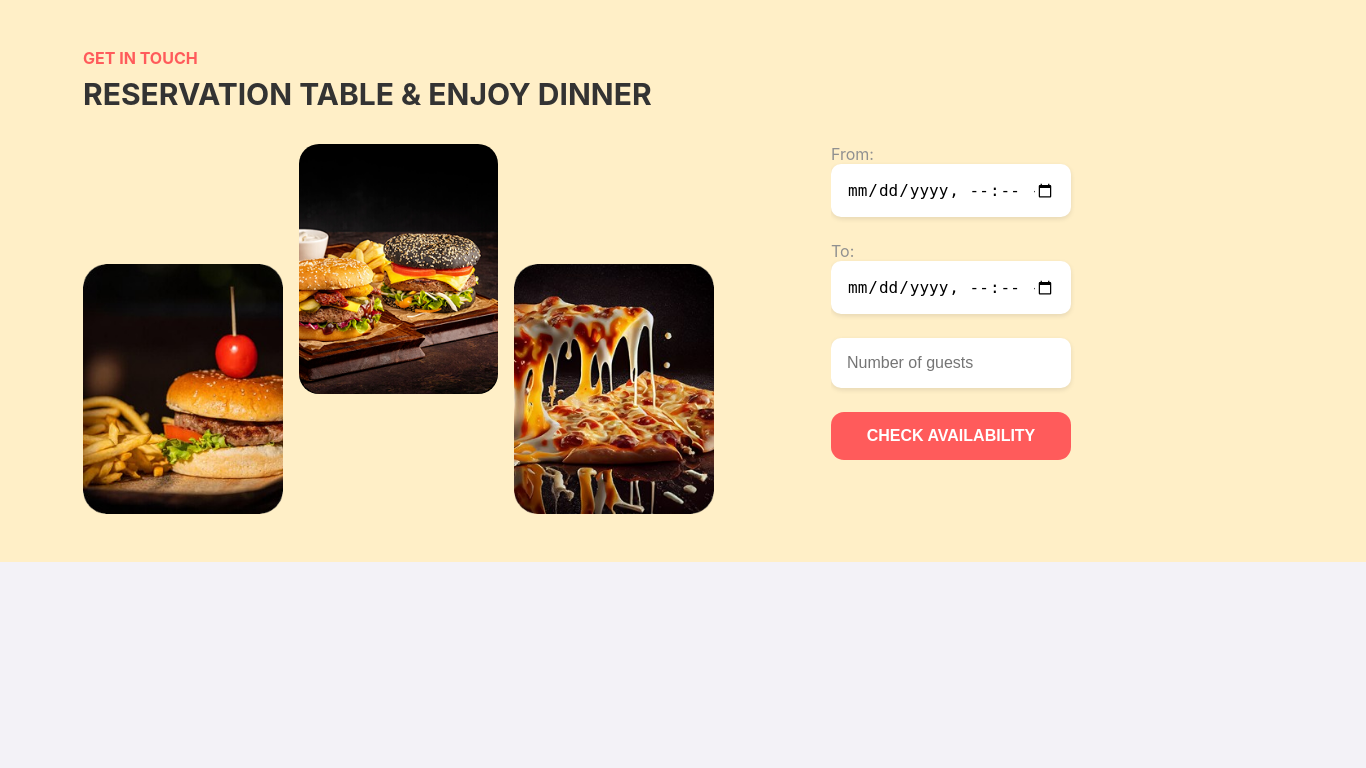
it: ReservationSection - Step 1: Check Availability › Chuyển sang Step 2 nếu có bàn trống
This screenshot has width=1366, height=768.
Type "2025-03-28T18:00" into the field with test id "startDate" at (951, 190), box [831, 164, 1071, 217]
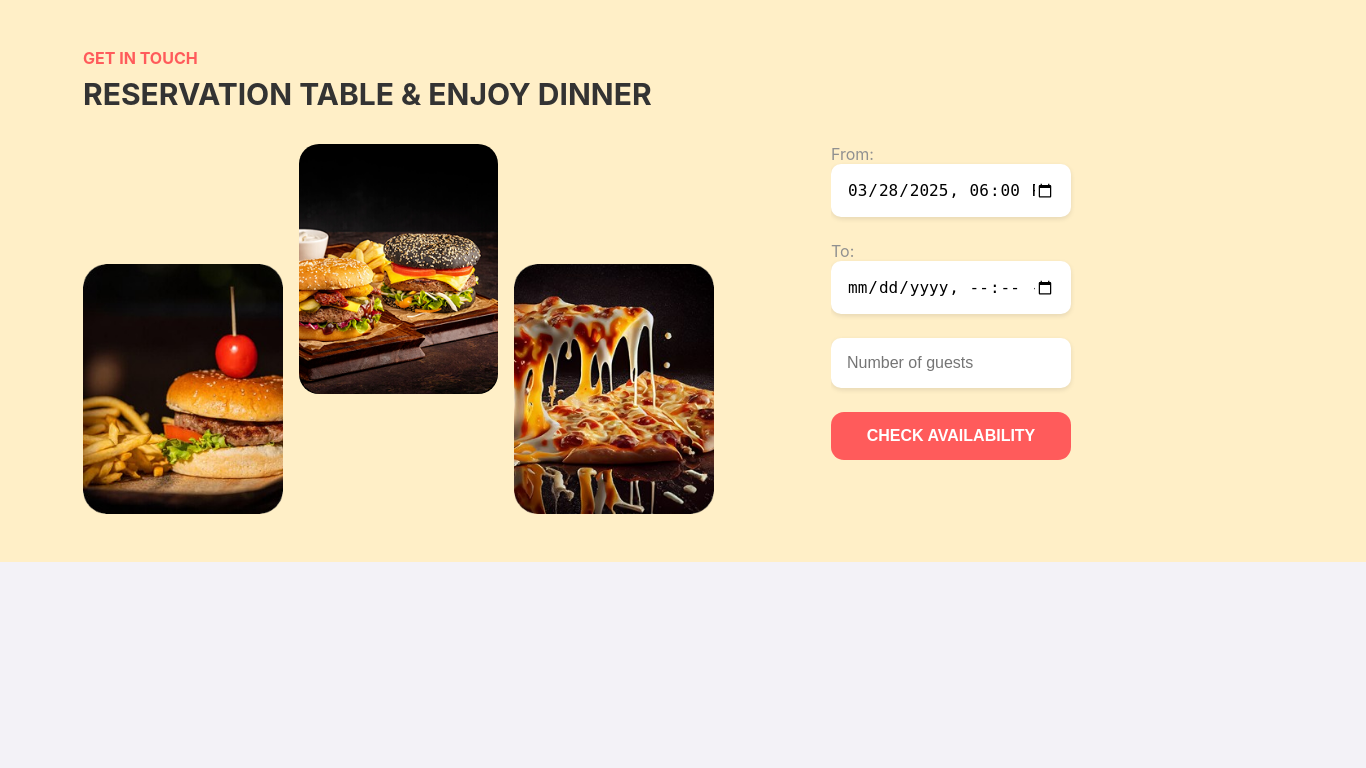
Type "2025-03-28T20:00" into the field with test id "endDate" at (951, 288), box [831, 261, 1071, 314]
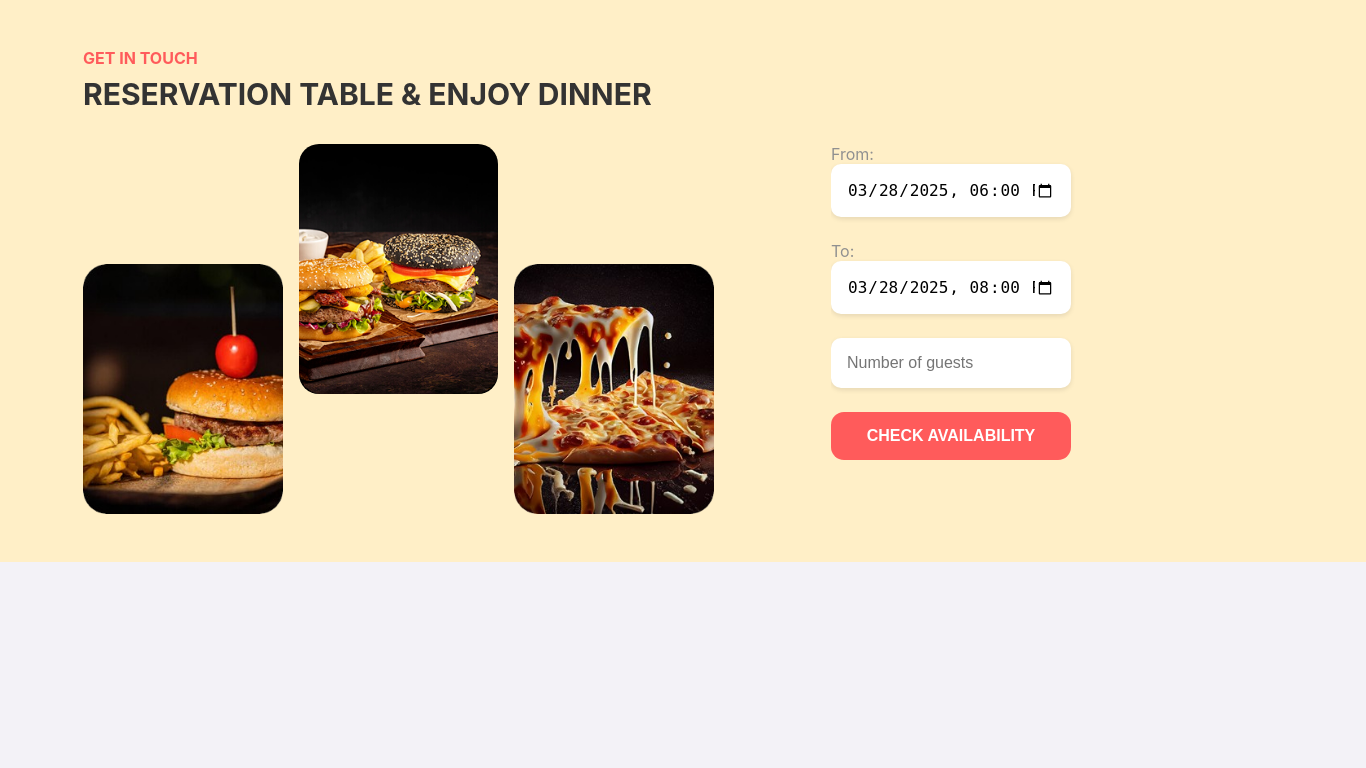
Type "4" into the number field with test id "countGuests" at (951, 363), box [831, 338, 1071, 388]
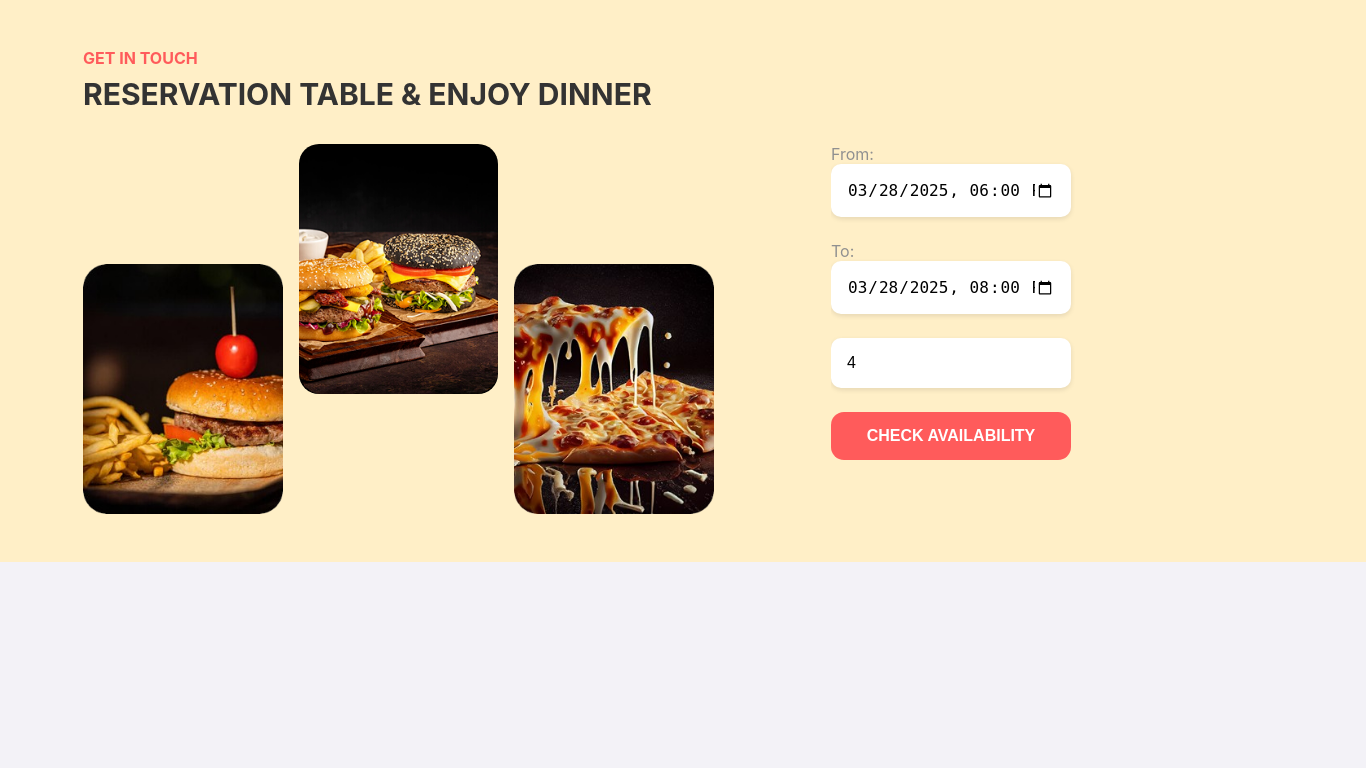
Click the button "CHECK AVAILABILITY" at (951, 436), box [831, 412, 1071, 460]
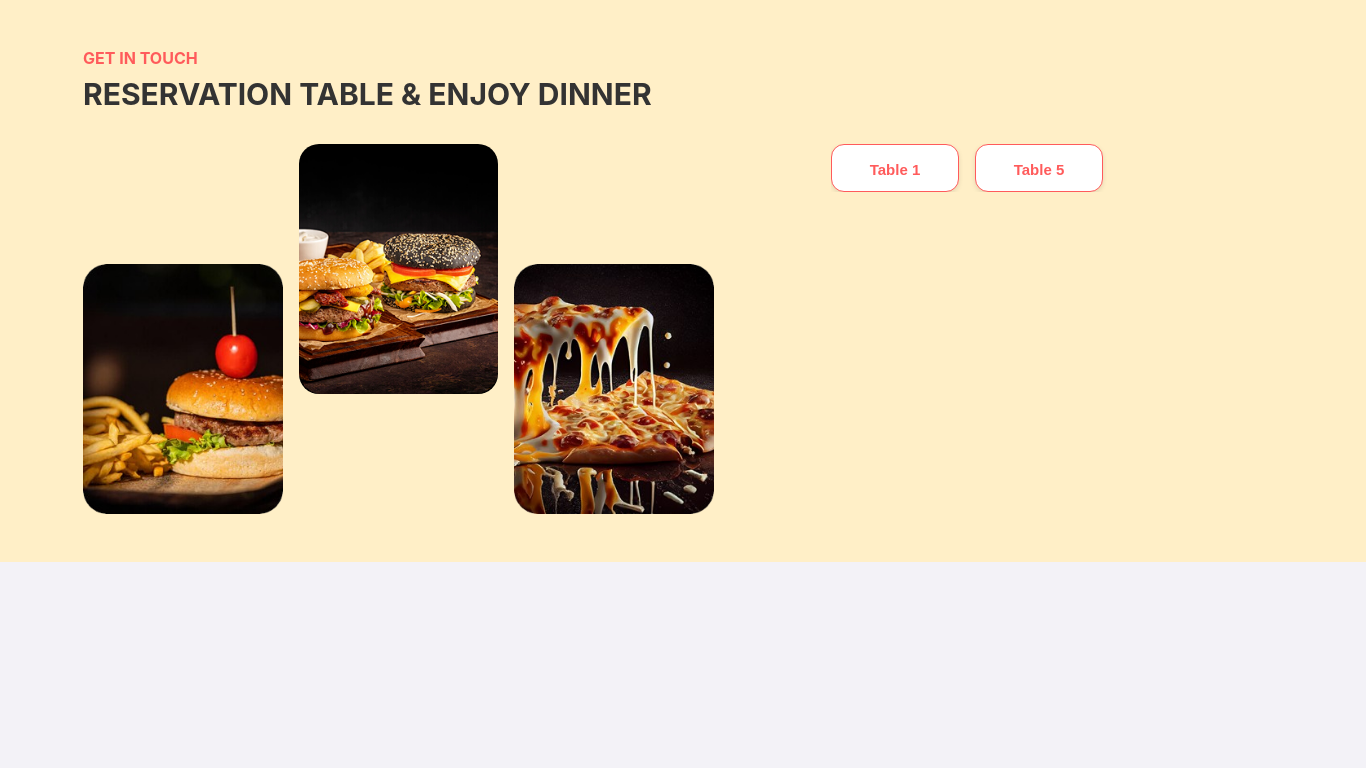
Result: the number of buttons "Table 1" is 2 at [831, 144, 959, 192]; [975, 144, 1103, 192]
Result: the button "Table 1" is shown at [831, 144, 959, 192]
Result: the button "Table 5" is shown at [975, 144, 1103, 192]
